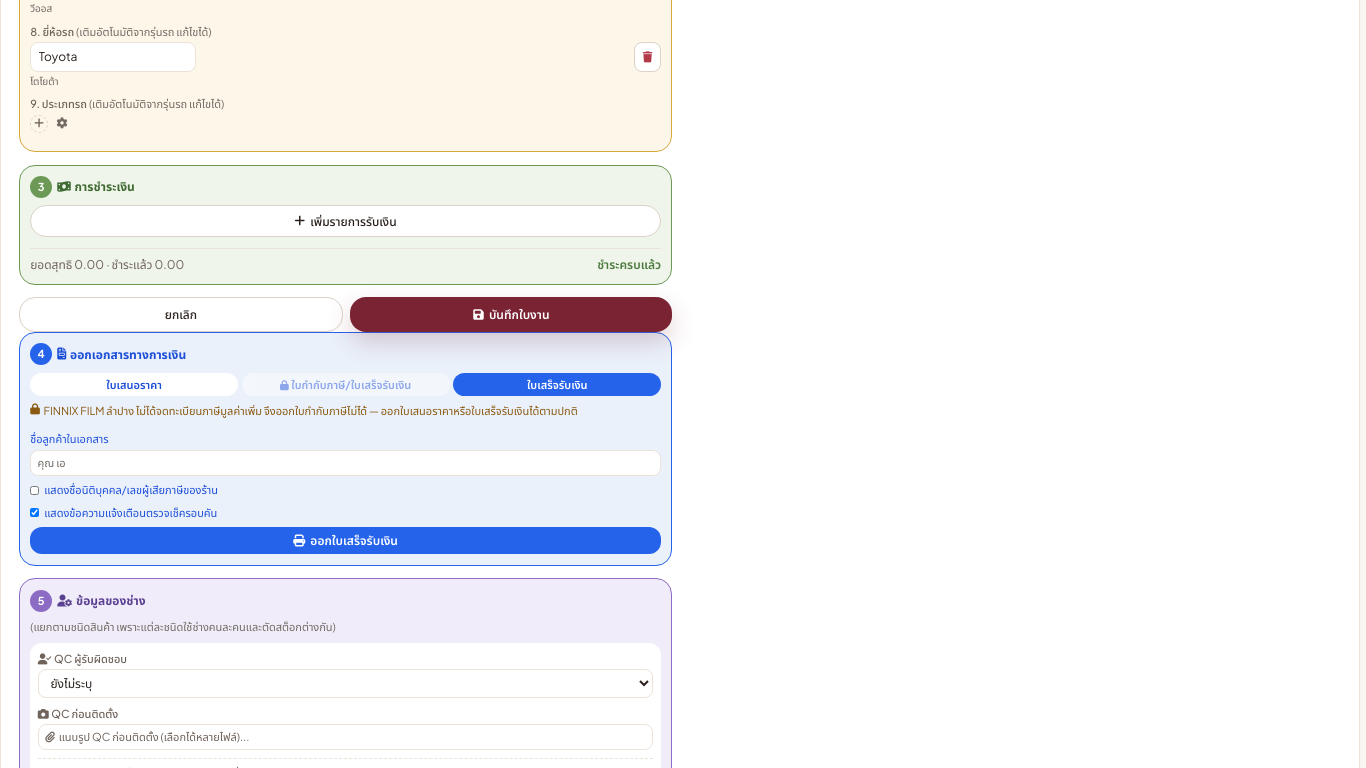
Test: TicketDetail — ใบกำกับภาษีตามการจดทะเบียนของสาขา › offers ข้อมูลนิติบุคคล on a ใบเสร็จรับเงิน once the shop’s details are shown
This screenshot has width=1366, height=768.
(page scrolled)
Click the button "ใบเสร็จรับเงิน" at (557,385), box [453,373,661,396]
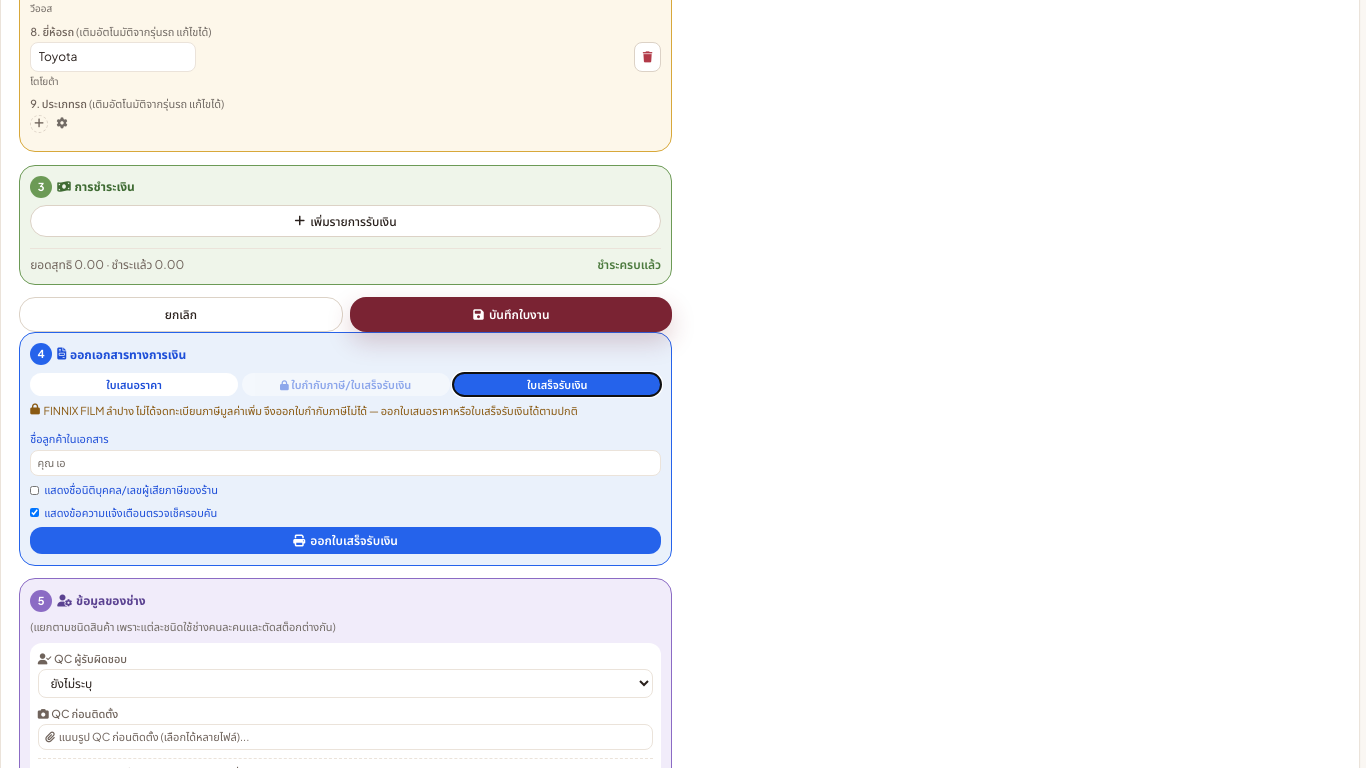
Expected: the field with placeholder "ที่อยู่นิติบุคคล" is not shown
Click the checkbox labelled "แสดงชื่อนิติบุคคล/เลขผู้เสียภาษีของร้าน" at (35,490), box [30,486,39,495]
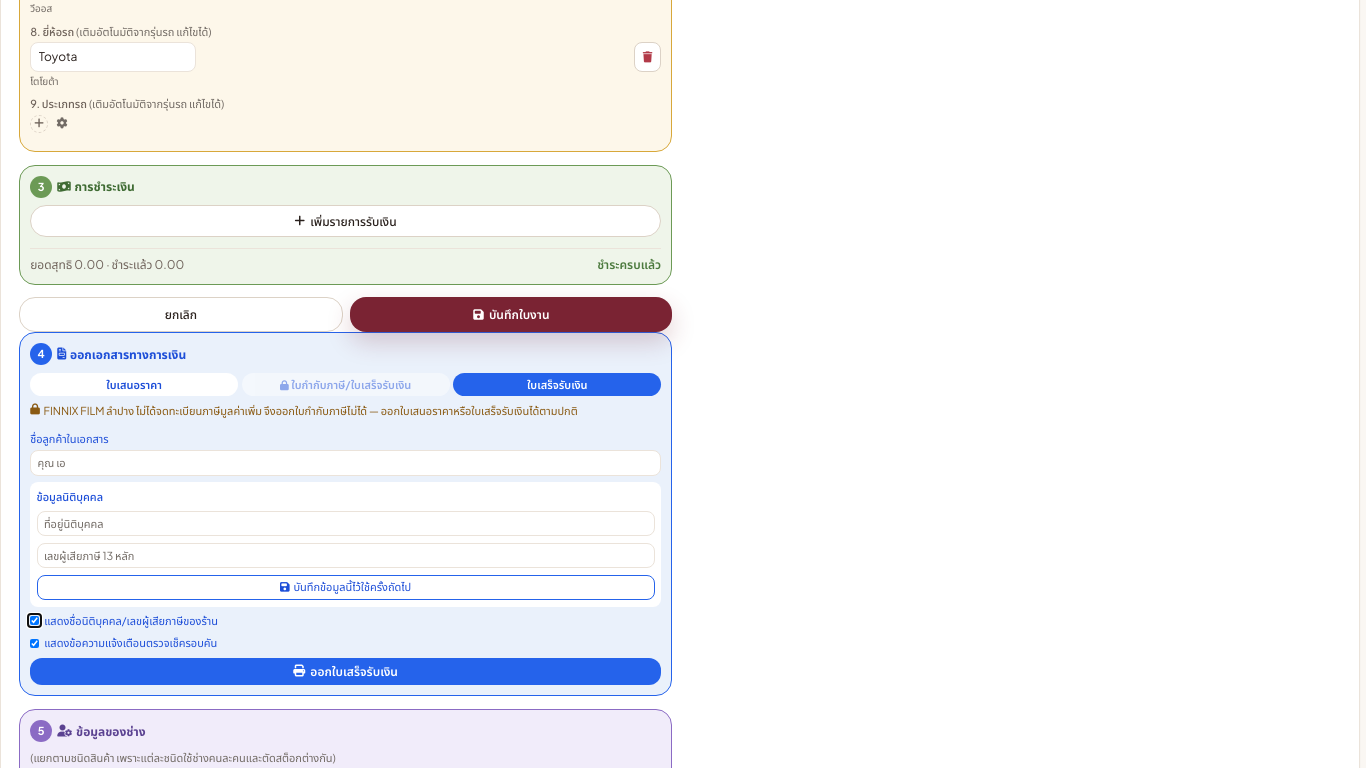
Now the field with placeholder "ที่อยู่นิติบุคคล" is shown, box [36,511,655,536]
Now the field with placeholder "เลขผู้เสียภาษี 13 หลัก" is shown, box [36,543,655,568]
Now the button "บันทึกข้อมูลนี้ไว้ใช้ครั้งถัดไป" is shown, box [36,575,655,600]
